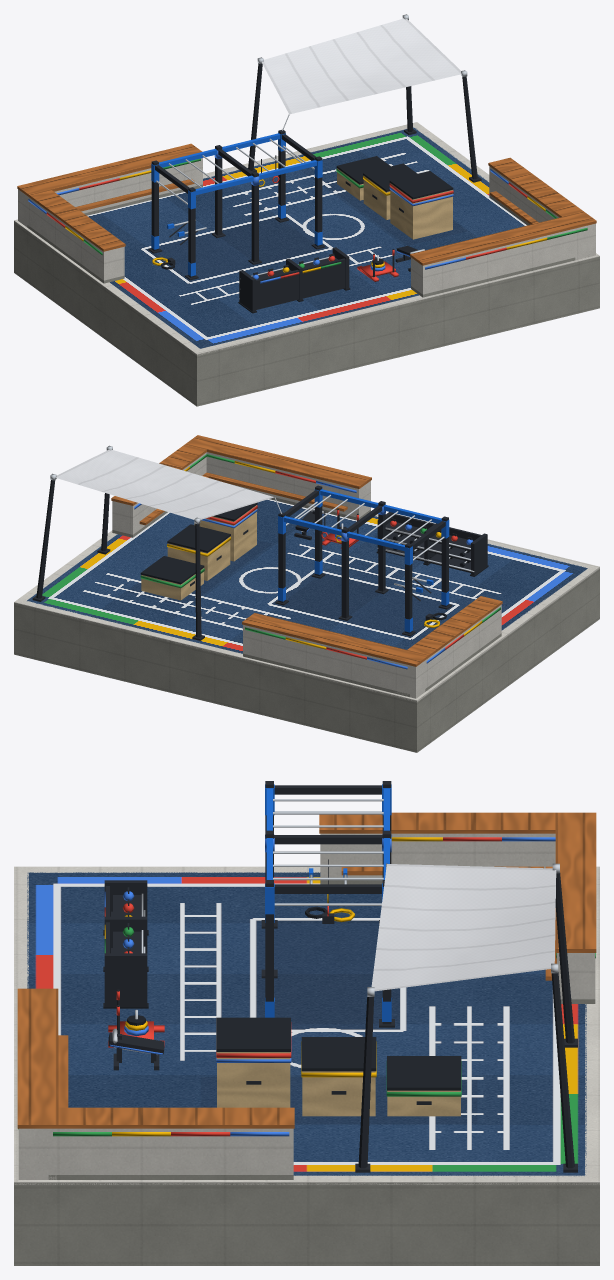
File: park_outdoor_gym.glb
3 renders of one model, top to bottom at view 1: azimuth 30°, elevation 25°; view 2: azimuth 150°, elevation 25°; view 3: azimuth 270°, elevation 25°, orthographic. The views are drawn at different scales.
Parts seen in each view (by area): view 1: OutdoorGym_turf, OutdoorGym_conc_skirt, OutdoorGym_conc_white, OutdoorGym_sail, OutdoorGym_steel_dark, OutdoorGym_cedar, OutdoorGym_birch, OutdoorGym_rubber_dark, OutdoorGym_g_blue_deep, OutdoorGym_g_red, OutdoorGym_steel_brushed, OutdoorGym_g_blue (+2 smaller); view 2: OutdoorGym_turf, OutdoorGym_conc_skirt, OutdoorGym_conc_white, OutdoorGym_steel_dark, OutdoorGym_cedar, OutdoorGym_sail, OutdoorGym_birch, OutdoorGym_rubber_dark, OutdoorGym_g_blue_deep, OutdoorGym_steel_brushed, OutdoorGym_g_red, OutdoorGym_g_yellow (+2 smaller); view 3: OutdoorGym_turf, OutdoorGym_conc_skirt, OutdoorGym_conc_white, OutdoorGym_cedar, OutdoorGym_sail, OutdoorGym_steel_dark, OutdoorGym_rubber_dark, OutdoorGym_birch, OutdoorGym_steel_brushed, OutdoorGym_g_blue_deep, OutdoorGym_g_red, OutdoorGym_g_blue (+3 smaller).
Part boxes in pixels (bbox=[...]): OutdoorGym_turf: bbox=[87, 127, 526, 348]; OutdoorGym_conc_skirt: bbox=[14, 184, 599, 406]; OutdoorGym_conc_white: bbox=[14, 122, 599, 355]; OutdoorGym_sail: bbox=[261, 18, 461, 114]; OutdoorGym_steel_dark: bbox=[148, 63, 481, 311]; OutdoorGym_cedar: bbox=[17, 143, 596, 265]; OutdoorGym_birch: bbox=[337, 168, 452, 239]; OutdoorGym_rubber_dark: bbox=[161, 156, 453, 313]; OutdoorGym_g_blue_deep: bbox=[151, 132, 322, 276]; OutdoorGym_g_red: bbox=[46, 175, 527, 281]; OutdoorGym_steel_brushed: bbox=[156, 14, 467, 298]; OutdoorGym_g_blue: bbox=[28, 149, 508, 283]; OutdoorGym_turf: bbox=[27, 499, 587, 653]; OutdoorGym_conc_skirt: bbox=[14, 497, 599, 752]; OutdoorGym_conc_white: bbox=[14, 452, 599, 702]; OutdoorGym_steel_dark: bbox=[32, 480, 487, 640]; OutdoorGym_cedar: bbox=[111, 435, 502, 666]; OutdoorGym_sail: bbox=[56, 450, 273, 519]; OutdoorGym_birch: bbox=[141, 505, 256, 600]; OutdoorGym_rubber_dark: bbox=[140, 502, 488, 620]; OutdoorGym_g_blue_deep: bbox=[278, 488, 449, 632]; OutdoorGym_steel_brushed: bbox=[50, 445, 474, 589]; OutdoorGym_g_red: bbox=[206, 471, 463, 659]; OutdoorGym_g_yellow: bbox=[167, 461, 482, 649]; OutdoorGym_turf: bbox=[27, 872, 586, 1176]; OutdoorGym_conc_skirt: bbox=[14, 880, 599, 1265]; OutdoorGym_conc_white: bbox=[14, 833, 599, 1184]; OutdoorGym_cedar: bbox=[17, 812, 596, 1128]; OutdoorGym_sail: bbox=[371, 864, 556, 991]; OutdoorGym_steel_dark: bbox=[104, 781, 577, 1172]; OutdoorGym_rubber_dark: bbox=[103, 906, 461, 1090]; OutdoorGym_birch: bbox=[217, 1052, 460, 1116]; OutdoorGym_steel_brushed: bbox=[112, 799, 559, 1055]; OutdoorGym_g_blue_deep: bbox=[265, 784, 391, 1021]; OutdoorGym_g_red: bbox=[104, 837, 501, 1136]; OutdoorGym_g_blue: bbox=[104, 834, 555, 1136].
Size of the model in its own units: 14 by 5.82 by 11.
Materials: 15 (6 with a texture image).
